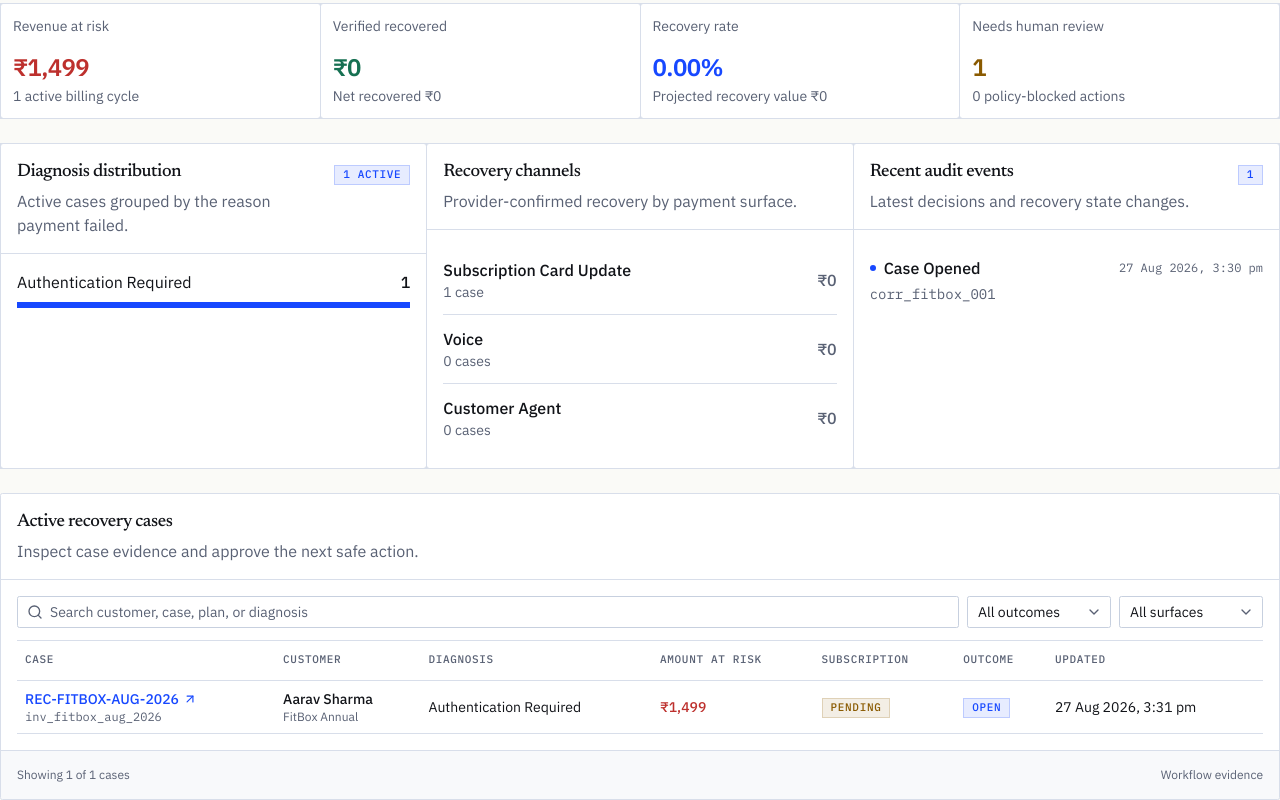
ControlTower › filters the case table and resets an empty result
(page scrolled)
Type "no matching account" into the search field named "Search cases".
click(488, 612); type("no matching account")  # box [17,596,959,628]
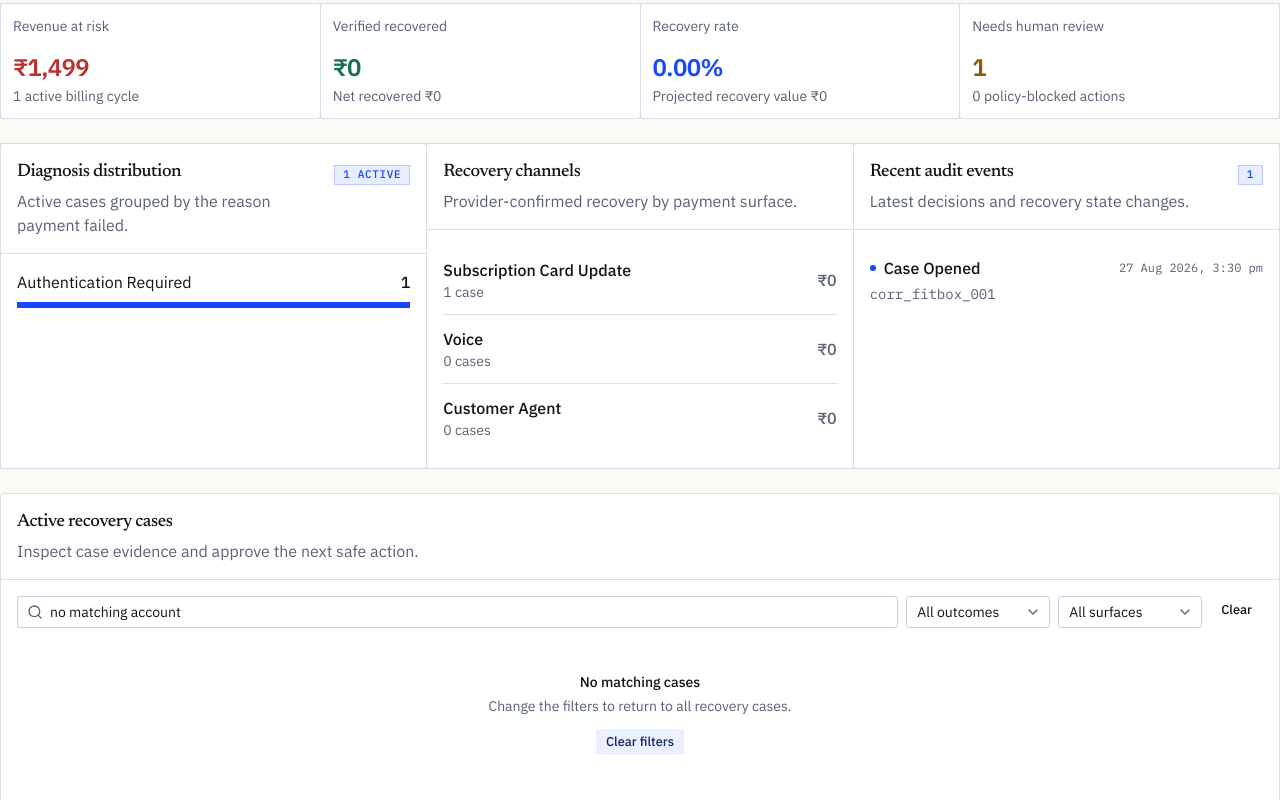
Expected: the text "No matching cases" is shown, [580,672,700,690]
Click the button "Clear filters".
click(640, 742)  # box [595,728,685,756]
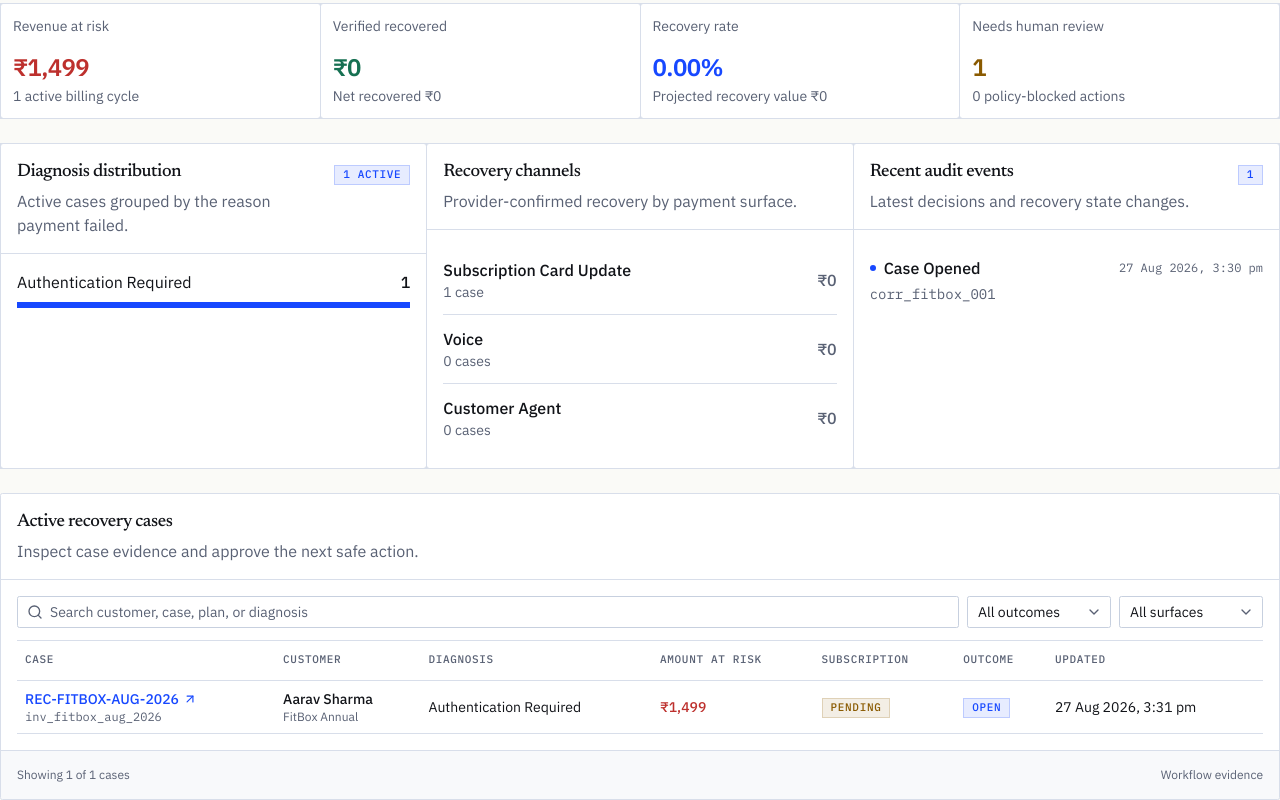
Expected: the link "REC-FITBOX-AUG-2026" is shown, [25,689,197,709]
